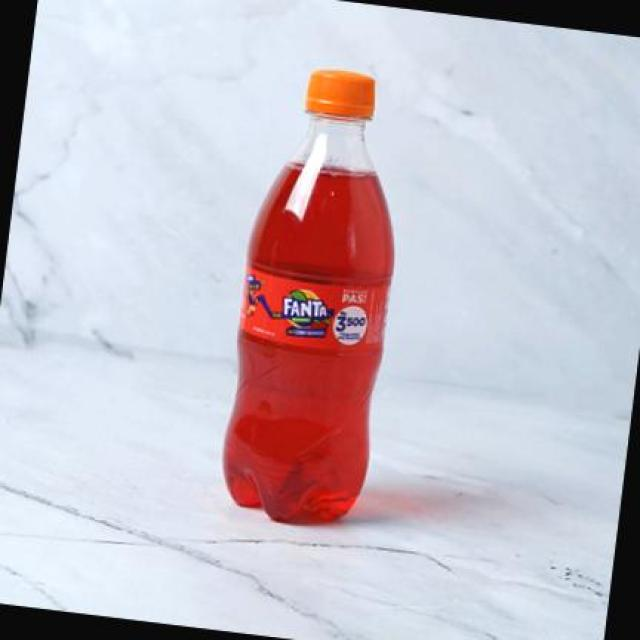high: (223, 69, 392, 521)
